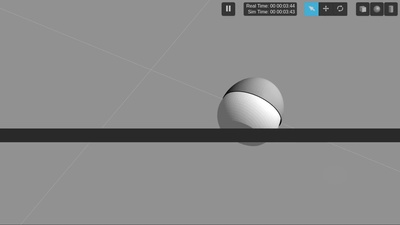mira_robot: (218, 77, 284, 147)
